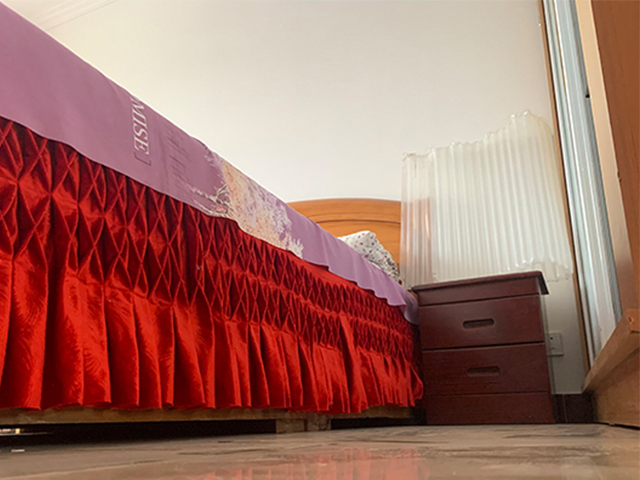bed: (1, 2, 431, 435)
cabinet: (538, 1, 638, 431), (411, 271, 558, 425)
